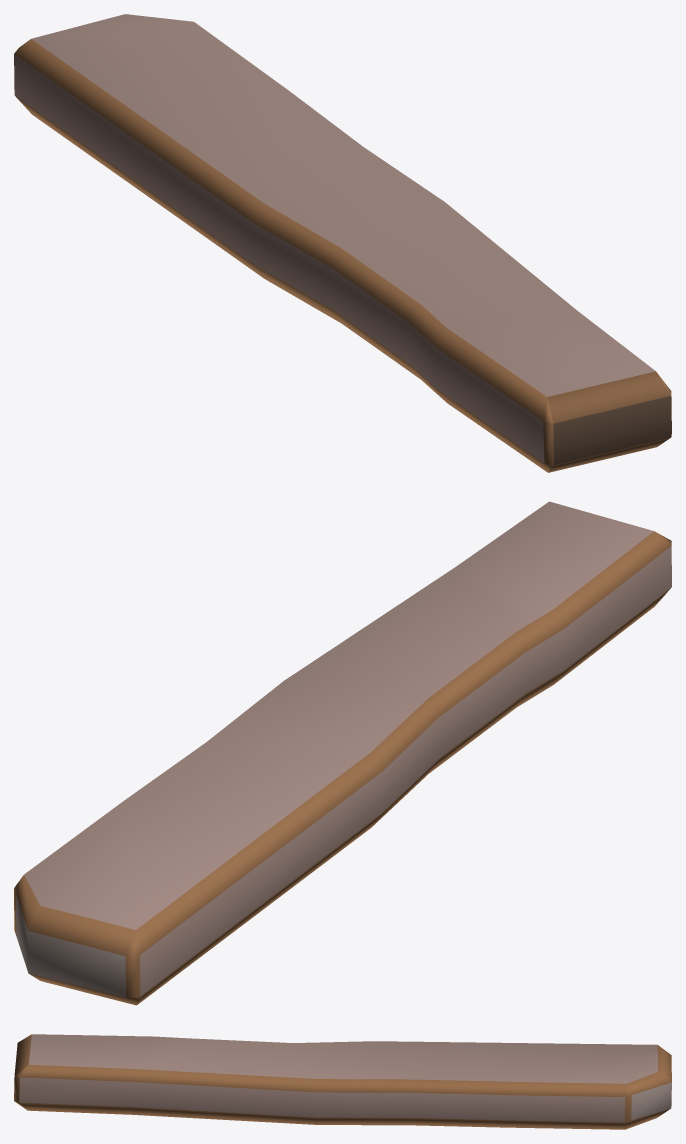
Rendered from post.fbx.
3 renders of one model, top to bottom at view 1: azimuth 30°, elevation 25°; view 2: azimuth 150°, elevation 25°; view 3: azimuth 270°, elevation 25°, orthographic. The views are drawn at different scales.
Parts seen in each view (by area): view 1: post; view 2: post; view 3: post.
Part boxes in pixels (x1,y1,x2,y2): post: [14, 14, 671, 472]; post: [14, 501, 671, 1005]; post: [14, 1034, 671, 1129].
Size of the model in its own units: 17.92 by 10.28 by 106.
